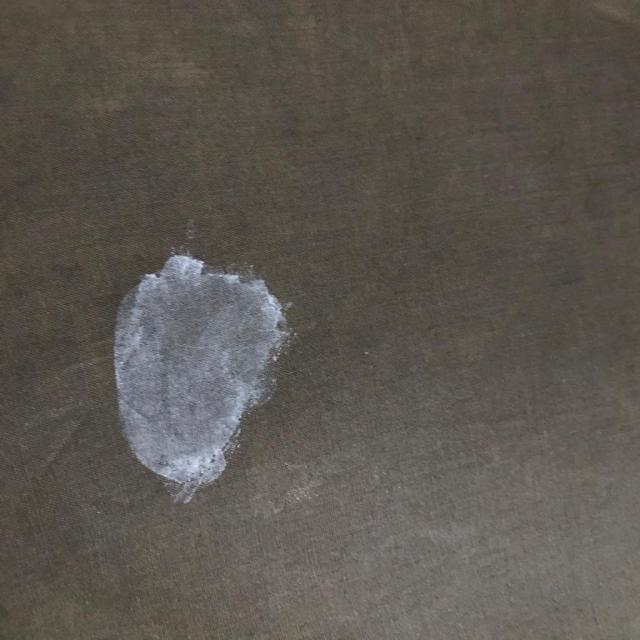Stain: (113, 256, 291, 503)
